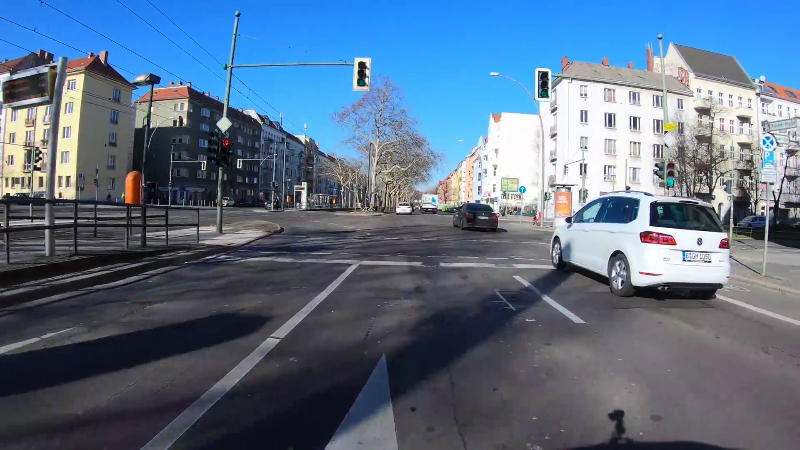Plate: (681, 250, 712, 262)
